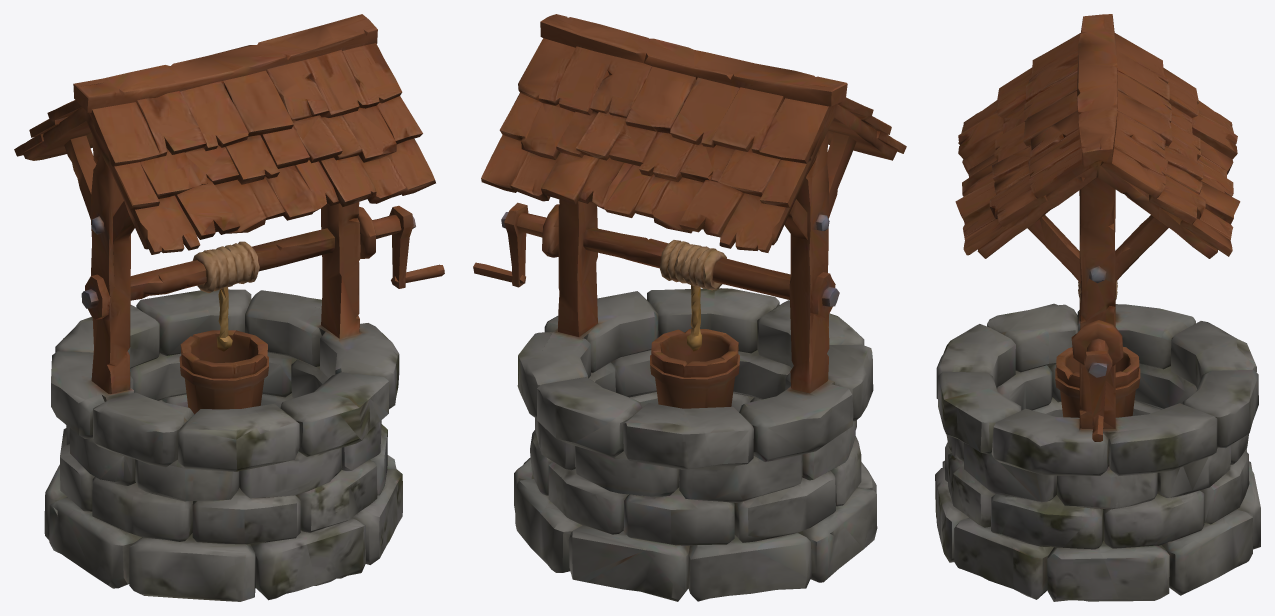
The model's file is well_hand_ruchnoy_kolodets_s_vorotom.glb.
The picture shows the model from 3 angles, left to right: view 1: azimuth 30°, elevation 25°; view 2: azimuth 150°, elevation 25°; view 3: azimuth 270°, elevation 25°; orthographic projection. The views are drawn at different scales.
Parts seen in each view (by area): view 1: body, windlass; view 2: body, windlass; view 3: body, windlass.
Boxes of the visible parts, x1,y1,x2,y2 form: body: [14, 14, 435, 601]; windlass: [130, 205, 444, 303]; body: [481, 14, 906, 601]; windlass: [473, 202, 790, 314]; body: [935, 14, 1260, 601]; windlass: [1071, 281, 1123, 441].
Size of the model in its own units: 1.06 by 1.3 by 0.8436.
3 materials, 3 textured.
